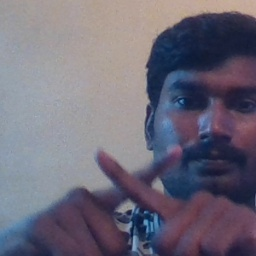X: (69, 131, 201, 256)
